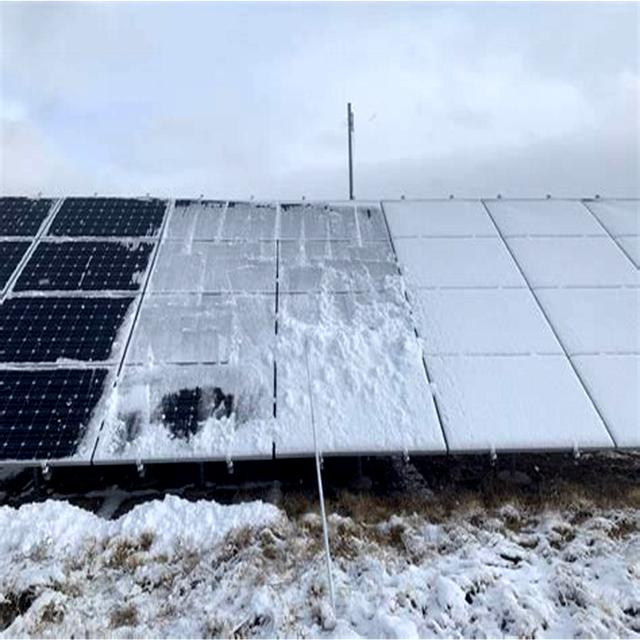panel: (500, 196, 620, 270), (342, 350, 432, 448), (448, 360, 538, 448), (138, 372, 248, 442), (150, 248, 276, 303), (284, 257, 404, 311), (539, 297, 640, 359), (148, 198, 271, 248), (147, 313, 246, 370), (423, 274, 496, 349), (80, 377, 132, 470), (4, 340, 122, 378), (282, 196, 382, 238), (0, 354, 122, 384), (262, 403, 331, 453), (269, 324, 320, 389), (394, 208, 484, 238), (15, 221, 105, 248), (102, 217, 164, 251), (506, 279, 534, 351), (34, 266, 72, 302), (114, 262, 162, 286)
